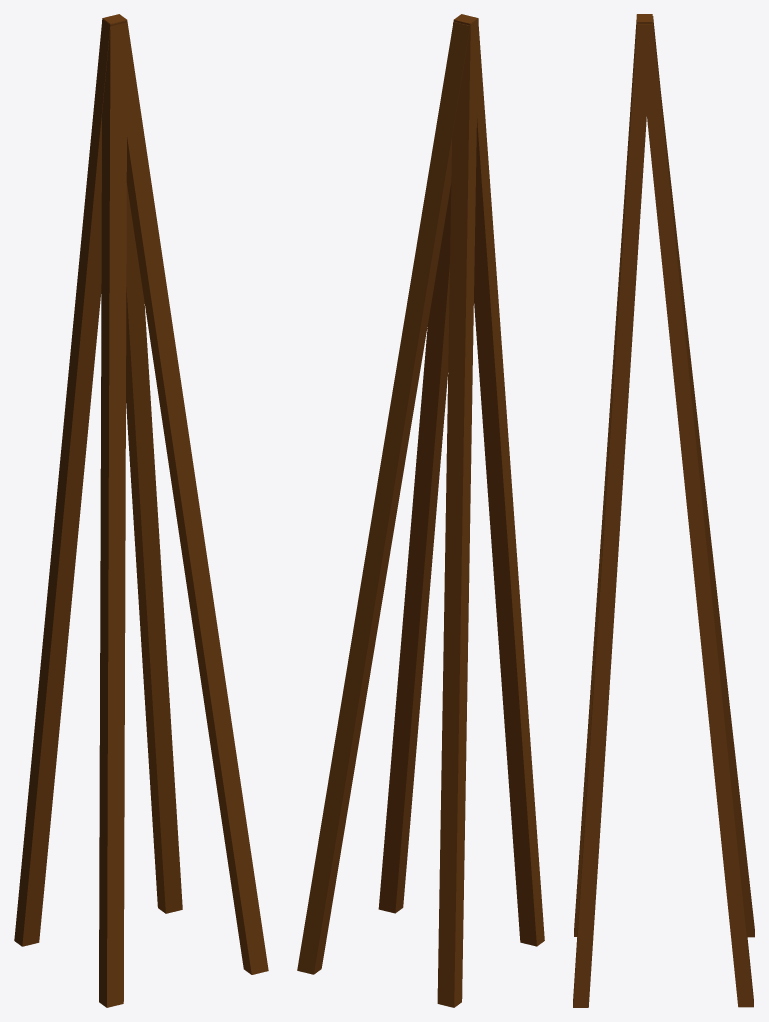
Rendered from windLegs.gltf.
3 views of the same model, side by side, from view 1: azimuth 30°, elevation 25°; view 2: azimuth 150°, elevation 25°; view 3: azimuth 270°, elevation 25° (orthographic). The views are drawn at different scales.
Parts seen in each view (by area): view 1: Cube.014, Cube.011, Cube.013, Cube.012; view 2: Cube.013, Cube.012, Cube.014, Cube.011; view 3: Cube.011, Cube.012, Cube.013, Cube.014.
Part boxes in pixels (x1,y1,x2,y2): Cube.014: (99, 14, 127, 1007); Cube.011: (126, 22, 268, 974); Cube.013: (14, 19, 127, 946); Cube.012: (102, 20, 182, 913); Cube.013: (437, 18, 478, 1007); Cube.012: (297, 22, 470, 974); Cube.014: (453, 14, 544, 946); Cube.011: (378, 21, 469, 913); Cube.011: (573, 16, 652, 1007); Cube.012: (647, 16, 753, 1007); Cube.013: (636, 14, 754, 937); Cube.014: (574, 14, 652, 936).
Size of the model in its own units: 2 by 11.3 by 1.99.
